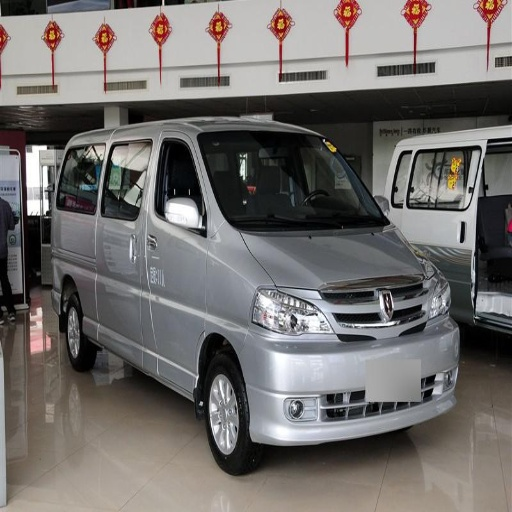front_bumper: (237, 285, 457, 443)
front_right_door: (143, 135, 208, 382)
front_right_light: (252, 284, 328, 337)
